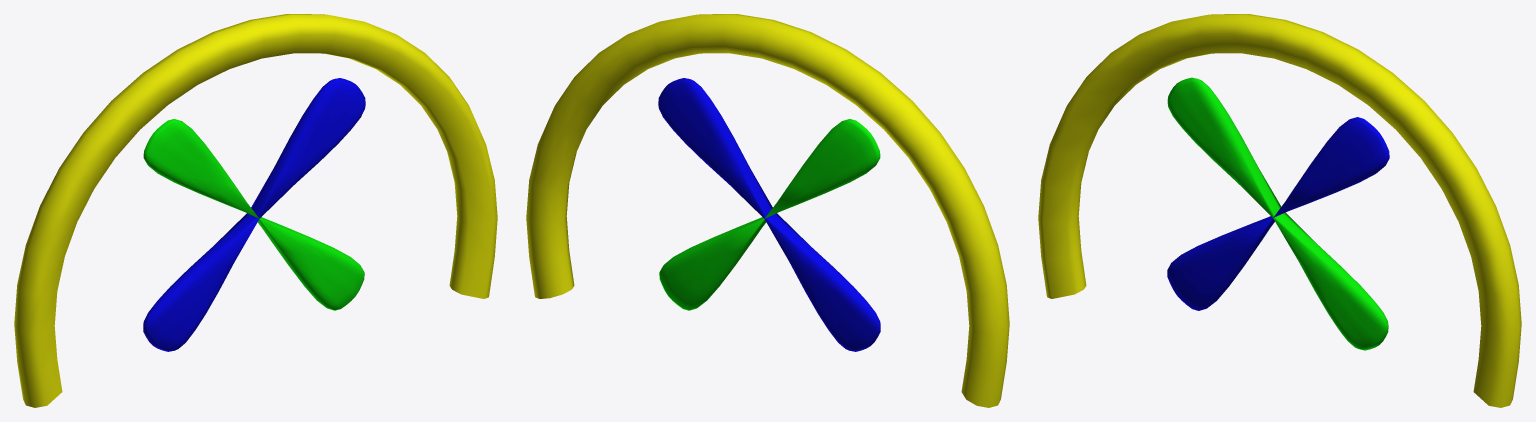
File: obstacl010.fbx
3 renders of one model, left to right at view 1: azimuth 30°, elevation 25°; view 2: azimuth 150°, elevation 25°; view 3: azimuth 330°, elevation 25°, orthographic.
Parts seen in each view (by area): view 1: obstacle092, obstacle09; view 2: obstacle092, obstacle09; view 3: obstacle092, obstacle09.
Part boxes in pixels (box(x1,y1,x2,y2)): obstacle092: box(14, 14, 497, 407); obstacle09: box(143, 78, 365, 351); obstacle092: box(526, 14, 1009, 407); obstacle09: box(658, 78, 880, 351); obstacle092: box(1038, 14, 1521, 407); obstacle09: box(1167, 77, 1389, 350).
Bounding box in the file's own units: 1520 × 998 × 108.
